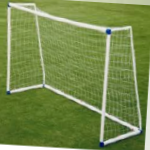goals: (5, 1, 144, 148)
